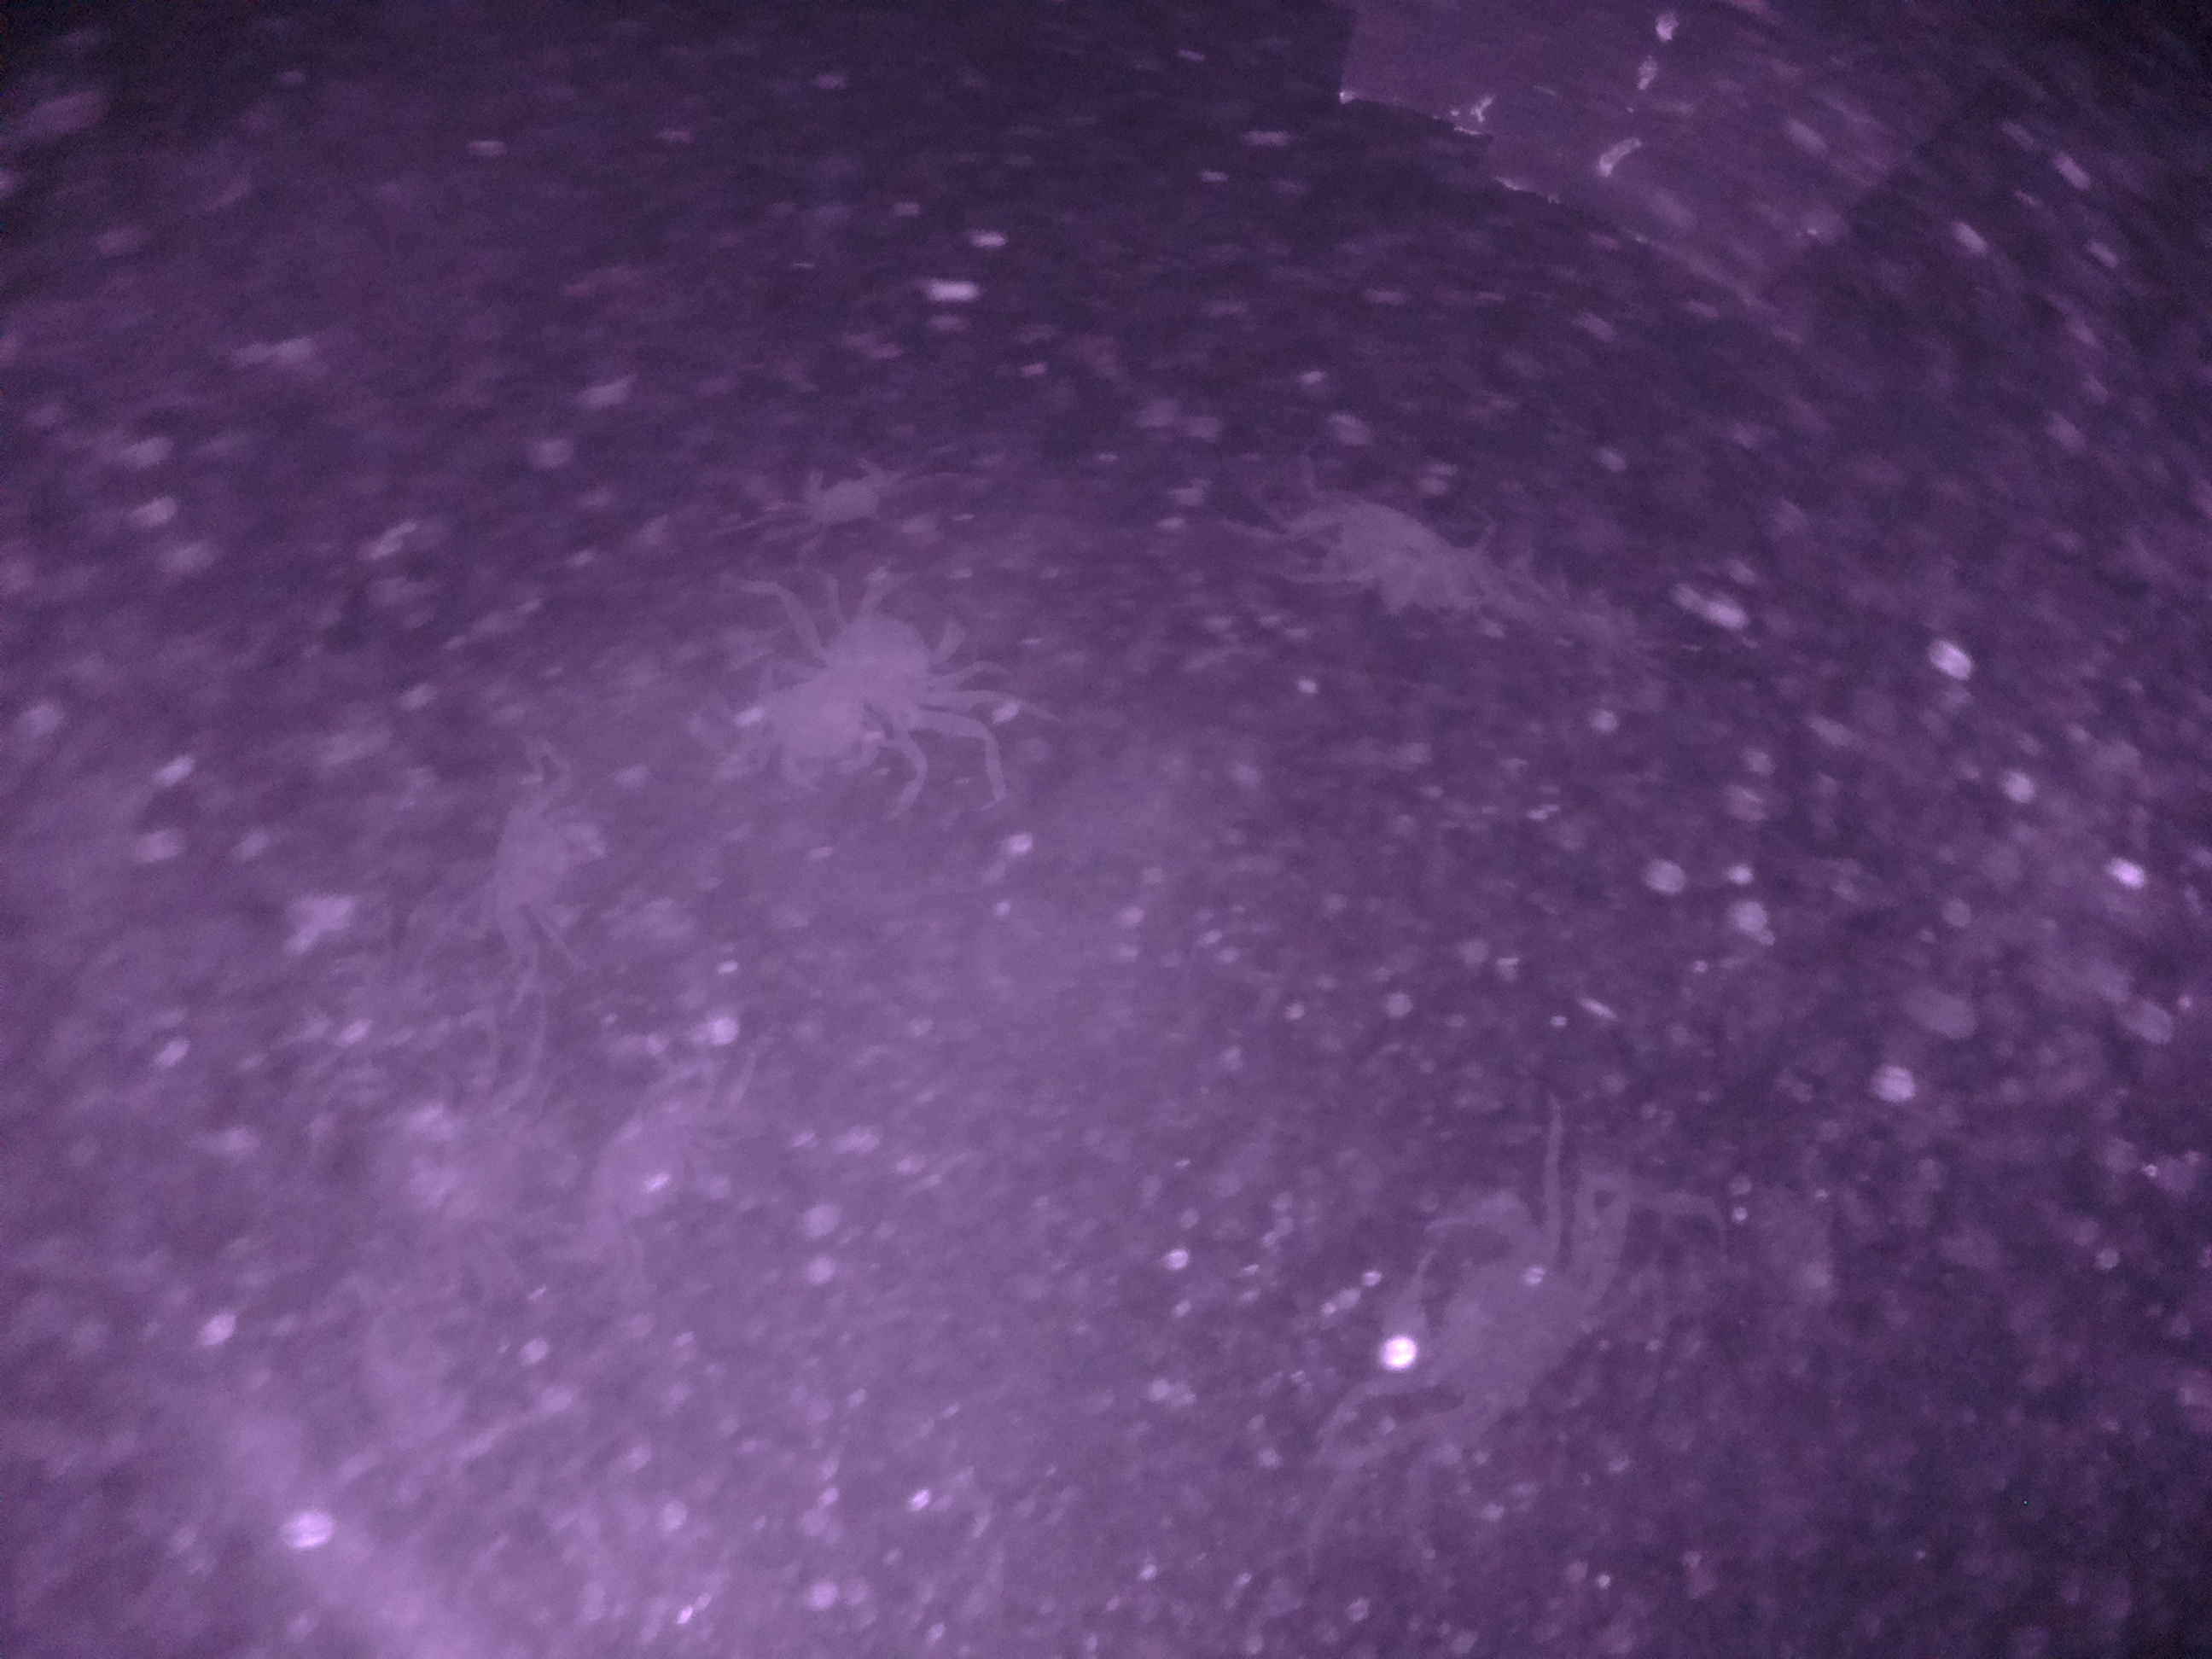Crab: (801, 549, 1001, 777)
